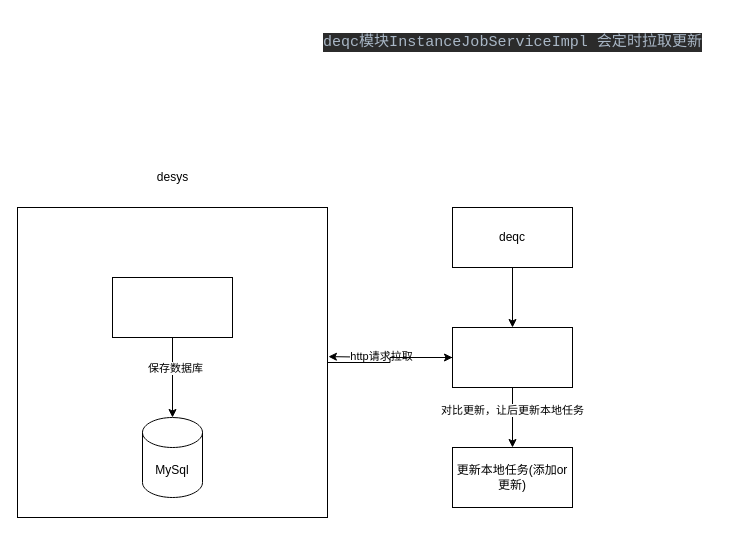
This 730x535 diagram has some shape labels left out. Each missing label, with the centre of its shape:
"job定时拉取" belongs at (512,357).
"下发任务" belongs at (172,307).
